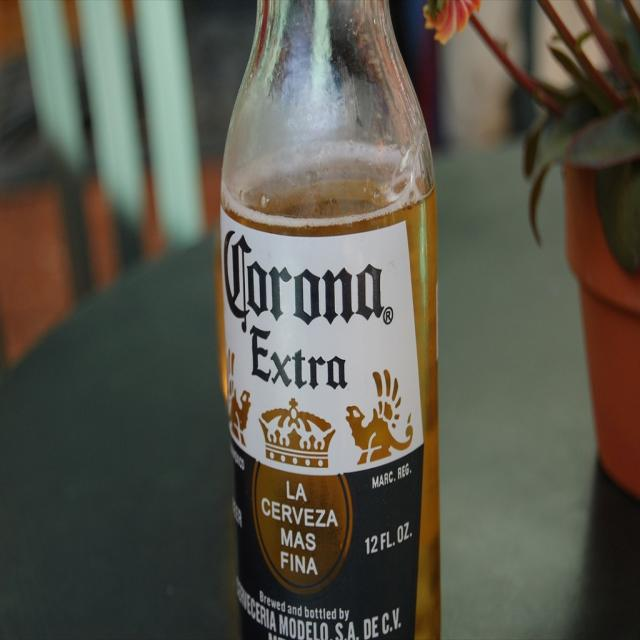corona: (221, 206, 426, 640)
